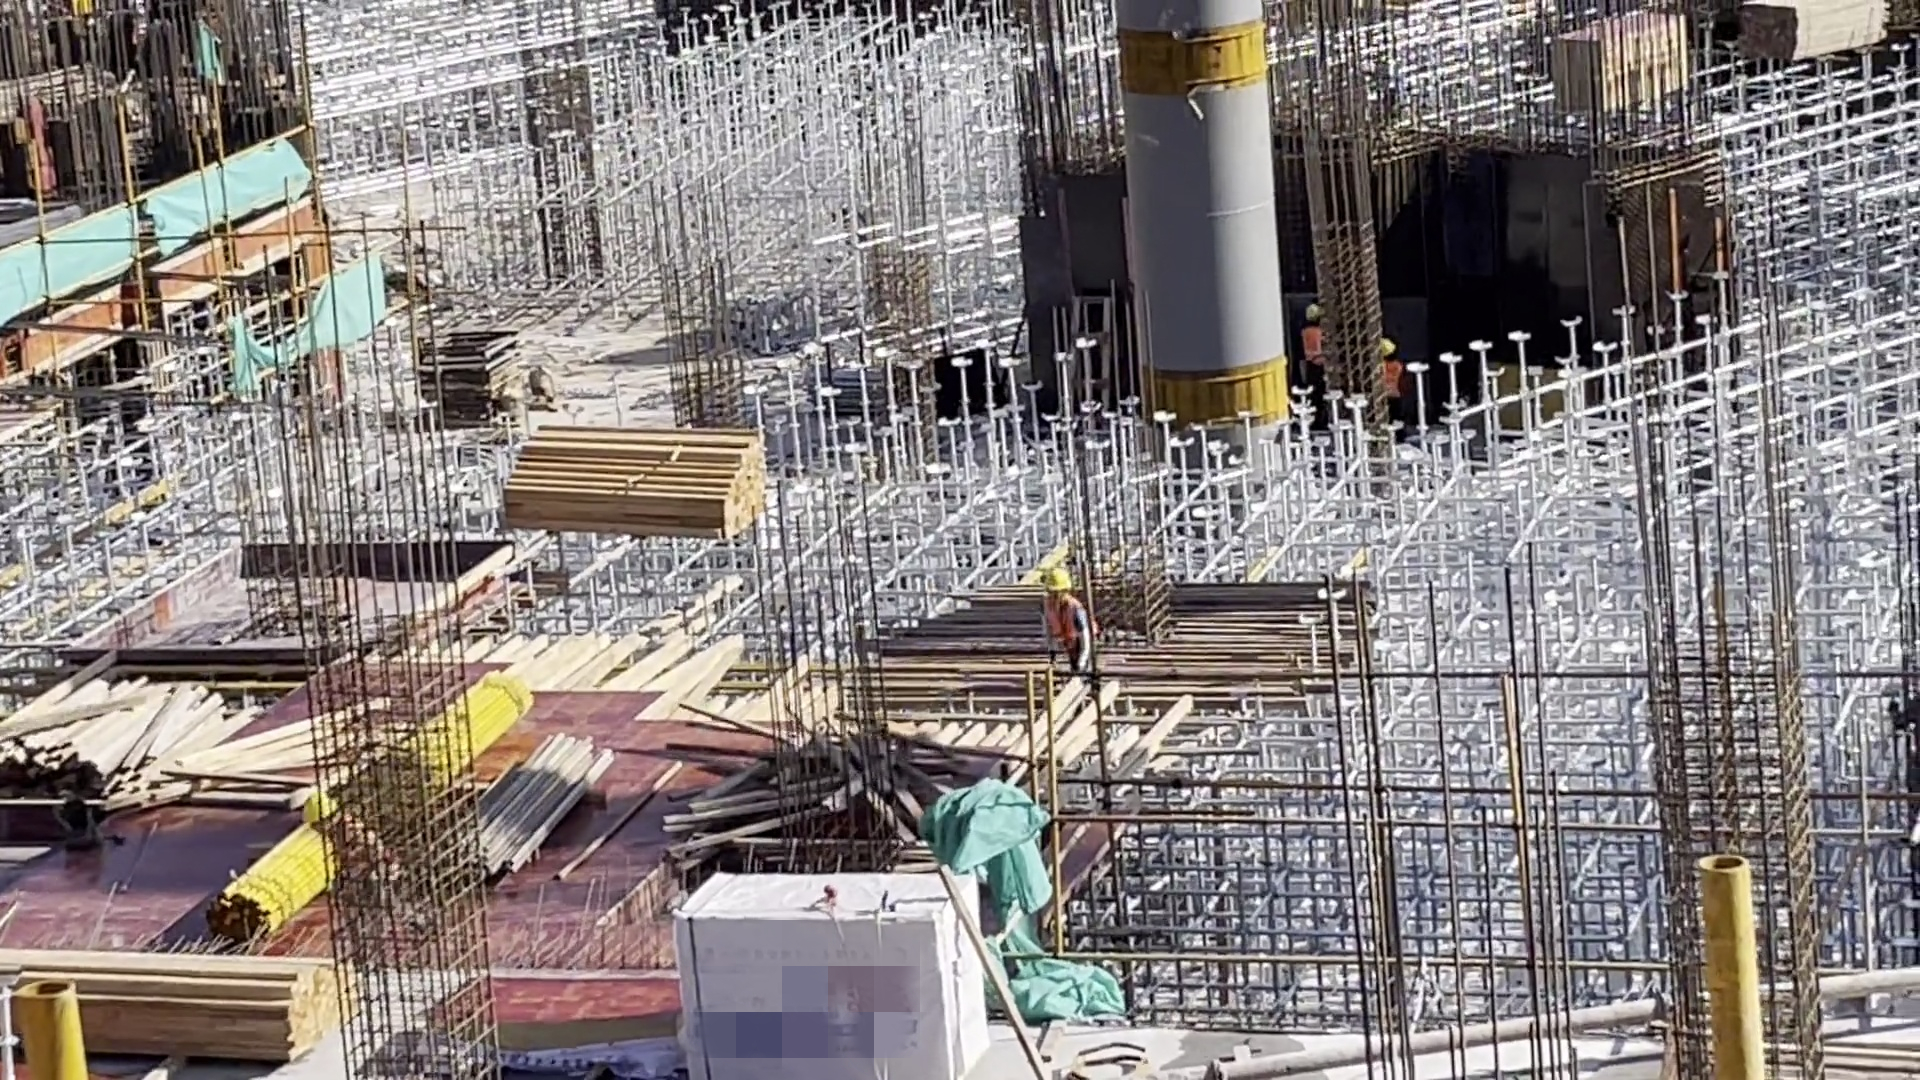helmet: (1045, 568, 1071, 599), (1305, 305, 1326, 323), (1379, 338, 1395, 358)
person: (1038, 563, 1102, 693), (1377, 333, 1412, 438), (1302, 301, 1334, 412)
vest: (1046, 591, 1087, 657), (1301, 328, 1326, 372), (1378, 355, 1401, 401)
